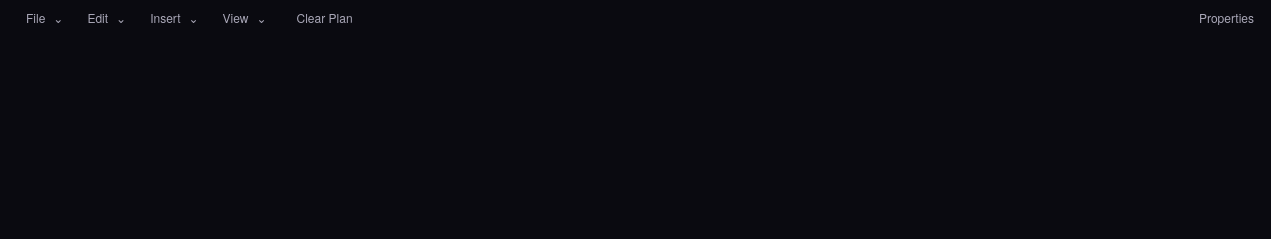
Scenario: opens image export from File and dismisses the menu
Click the button "File ⌄" at (45, 18), box 16,4 -> 73,32
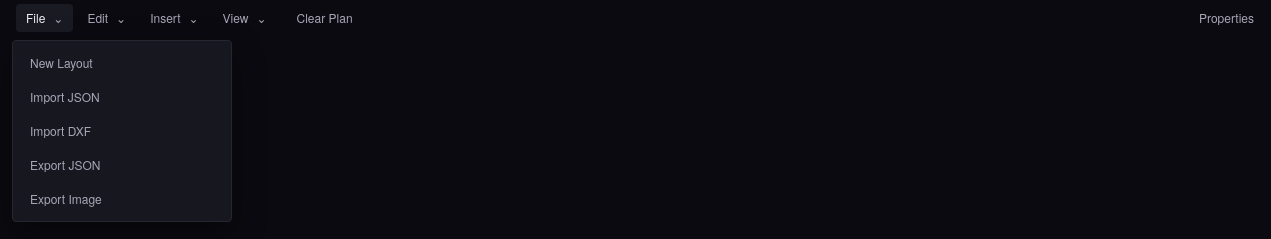
Check: the button "Export JSON" is shown, box 19,149 -> 225,181
Click the button "Export Image" at (122, 199), box 19,183 -> 225,215
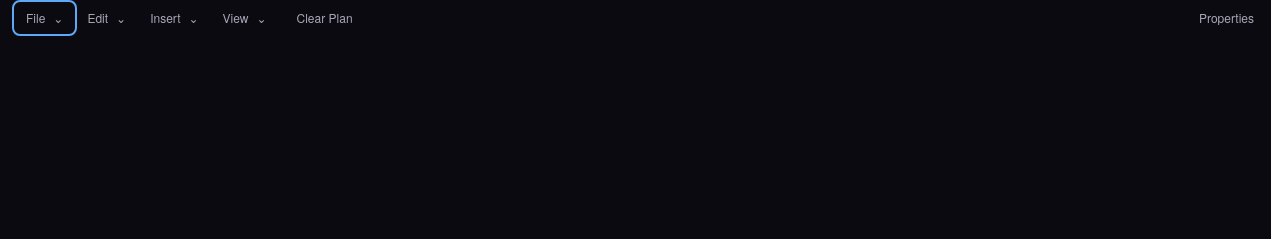
Check: the element with class "studio-popover-panel" is gone
